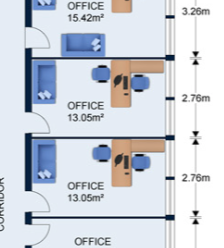door: (22, 108, 54, 136), (22, 188, 55, 214), (22, 25, 51, 52), (23, 222, 52, 248)
window: (159, 136, 187, 179), (159, 57, 184, 99), (159, 16, 184, 58), (159, 178, 181, 218)
